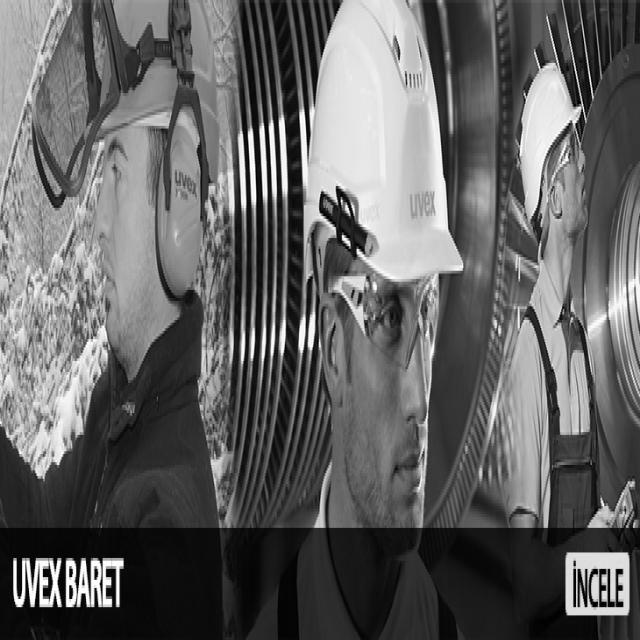construction helmet: (309, 0, 464, 284), (93, 0, 214, 175), (518, 63, 581, 238)
